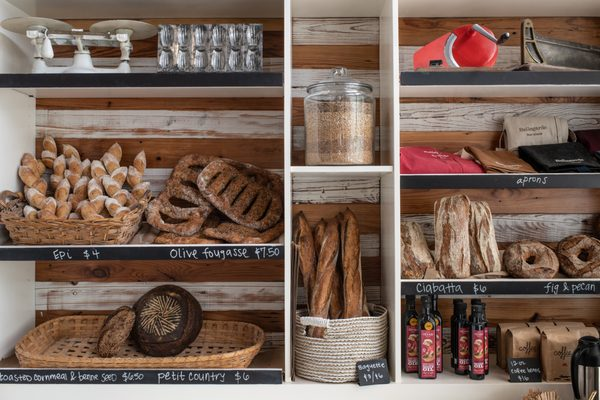burger: (304, 71, 376, 166), (419, 295, 442, 379), (571, 333, 600, 399), (469, 298, 489, 378), (403, 295, 420, 374)
salad: (501, 239, 559, 278), (554, 233, 600, 277)
